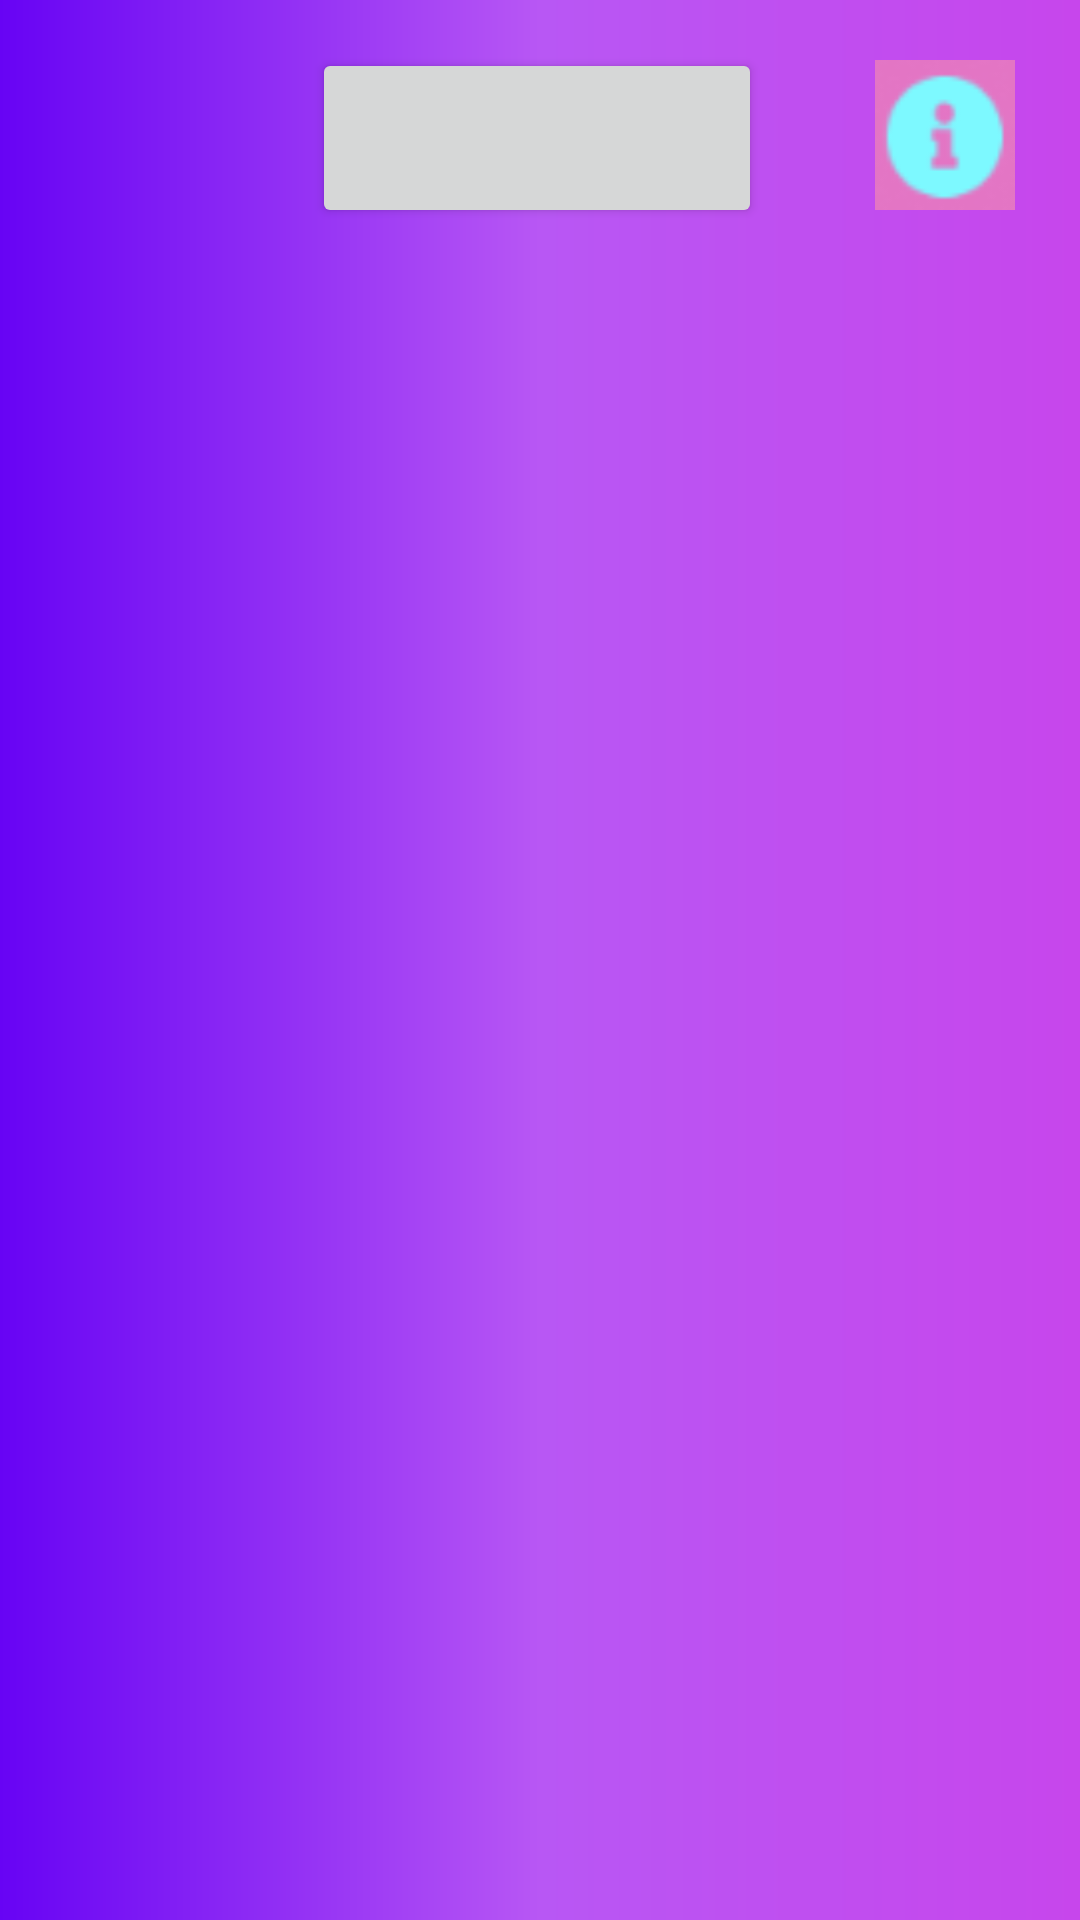

Icons on this 1080x1920 Android screen, each with the point to tap as (x=x, y=y):
info: (x=945, y=135)
